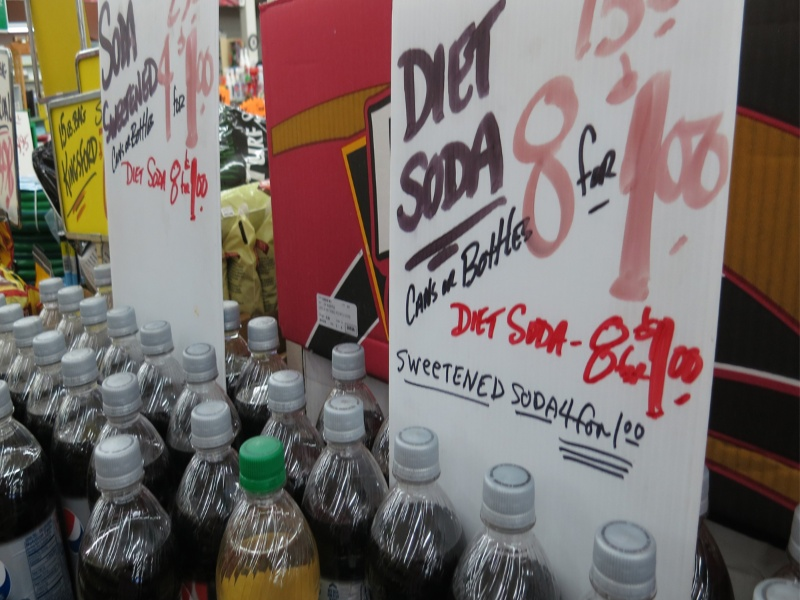Plastic bottle: (340, 384, 469, 595), (44, 435, 197, 595), (184, 438, 335, 600), (428, 438, 563, 600), (6, 371, 76, 597), (224, 361, 343, 487)
